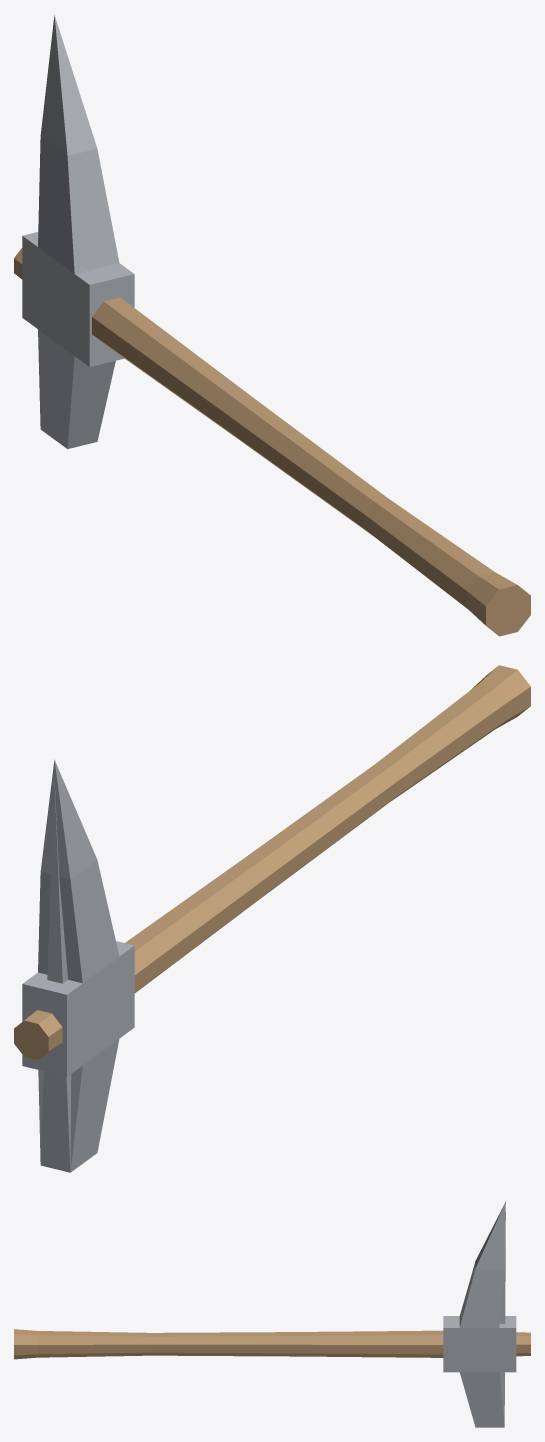
File: Pickaxe.fbx
The picture shows the model from 3 angles, top to bottom: view 1: azimuth 30°, elevation 25°; view 2: azimuth 150°, elevation 25°; view 3: azimuth 270°, elevation 25°; orthographic projection. The views are drawn at different scales.
Parts seen in each view (by area): view 1: Pickaxe_Export; view 2: Pickaxe_Export; view 3: Pickaxe_Export.
Boxes of the visible parts, x1,y1,x2,y2 form: Pickaxe_Export: (14, 15, 530, 636); Pickaxe_Export: (14, 665, 530, 1172); Pickaxe_Export: (14, 1201, 530, 1427).
Size of the model in its own units: 4.8 by 42 by 88.5.
